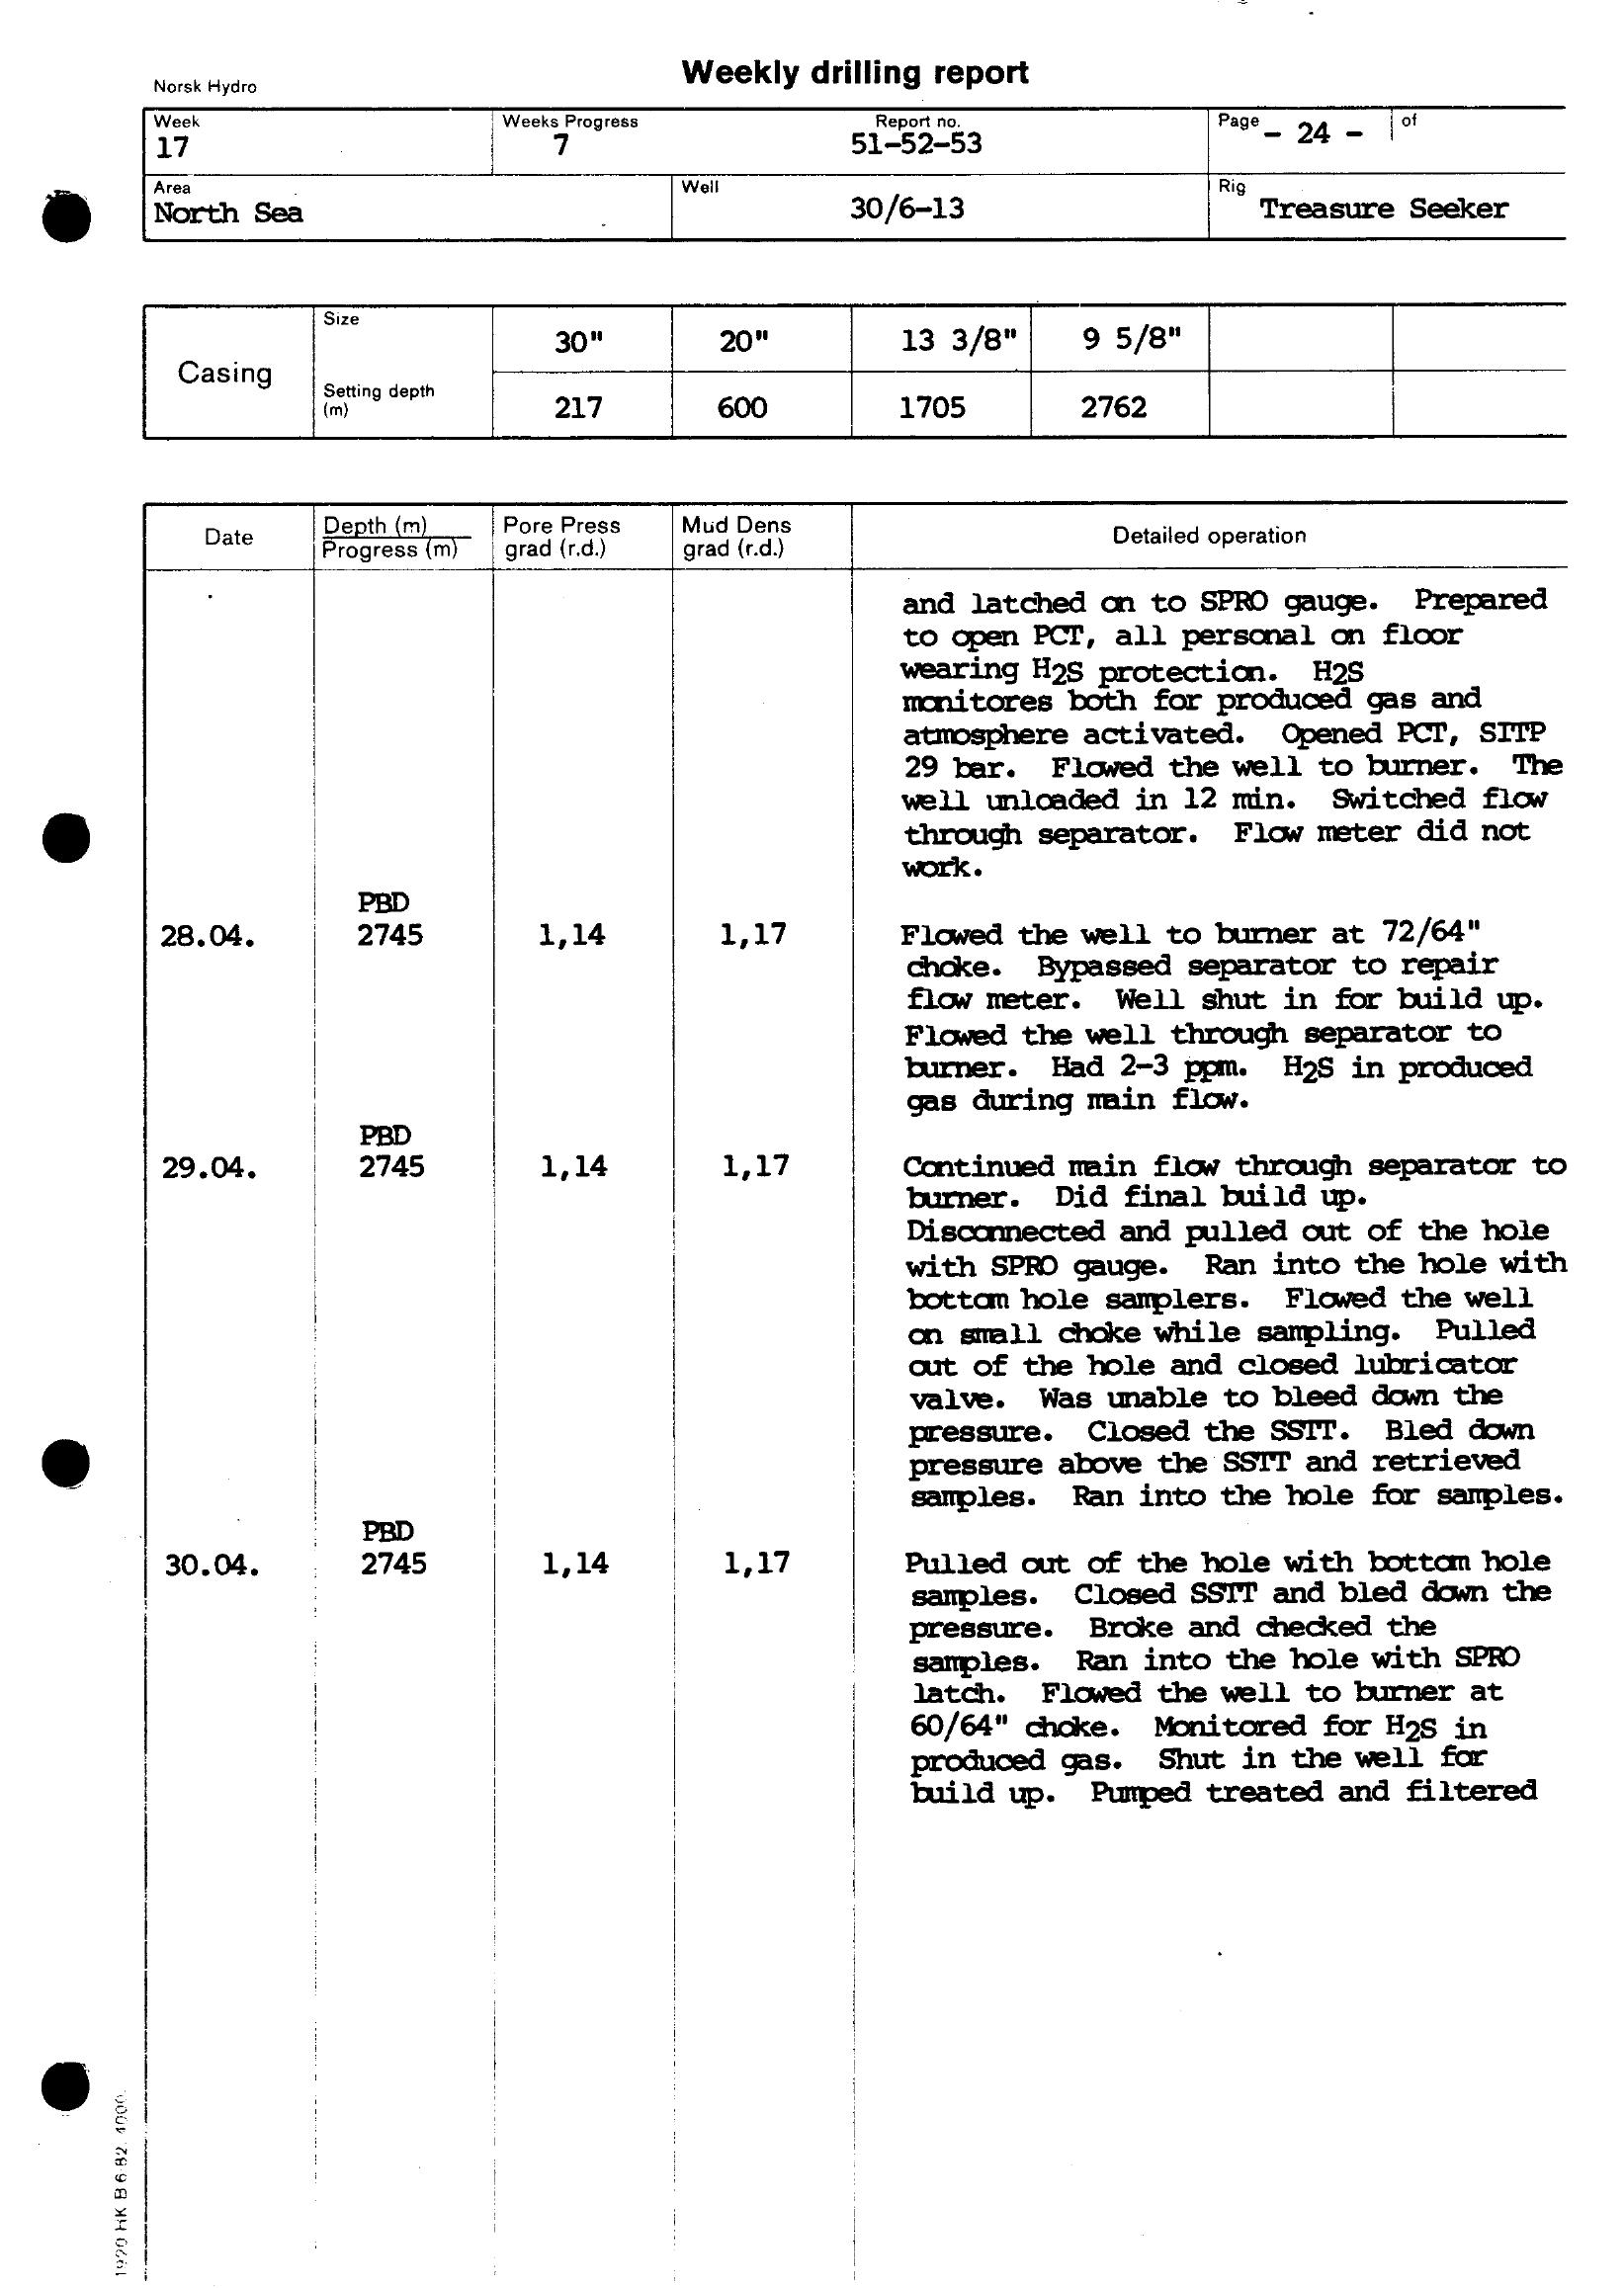graph: (137, 90, 1624, 1863)
text: (677, 49, 1033, 100)
